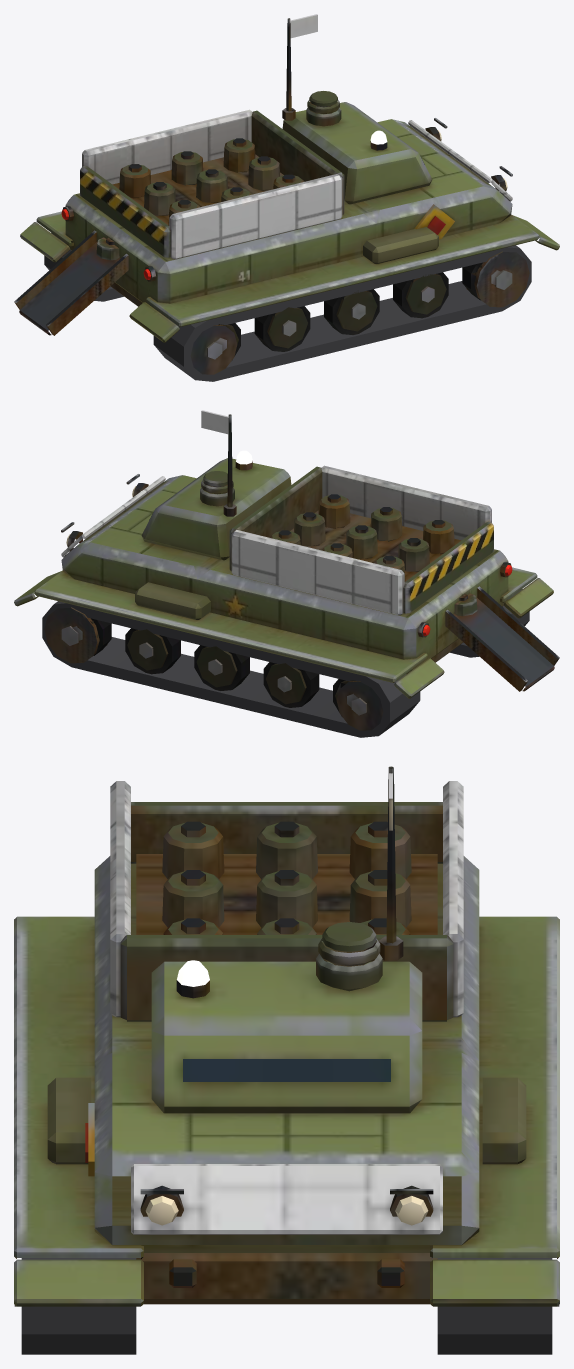
The model's file is mnly.soviet.glb.
3 renders of one model, top to bottom at view 1: azimuth 30°, elevation 25°; view 2: azimuth 150°, elevation 25°; view 3: azimuth 270°, elevation 25°, orthographic. The views are drawn at different scales.
Visible parts, largest first — view 1: root_mesh; view 2: root_mesh, drop_mesh; view 3: root_mesh.
Boxes of the visible parts, left/top/right/bottom form: root_mesh: left=14, top=14, right=559, bottom=381; root_mesh: left=14, top=410, right=559, bottom=737; drop_mesh: left=454, top=593, right=477, bottom=616; root_mesh: left=14, top=766, right=559, bottom=1354.
Bounding box in the file's own units: 0.9659 × 0.503 × 0.525.
3 materials, 1 textured.
